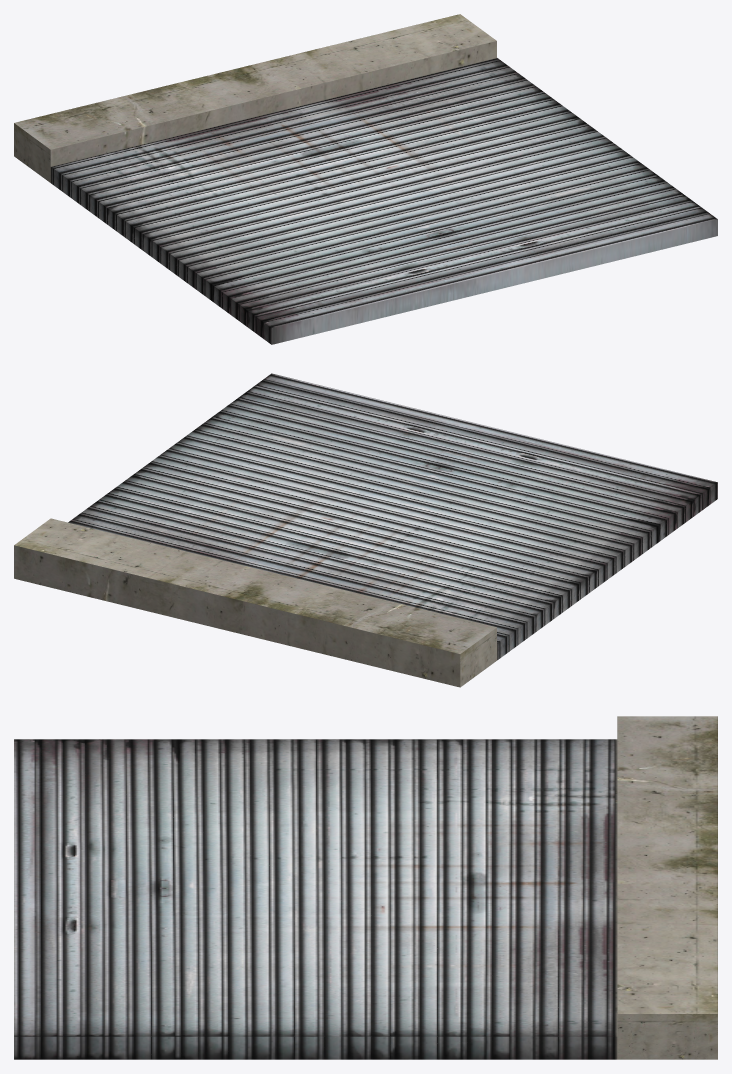
File: Door__Garage.FBX
The picture shows the model from 3 angles, top to bottom: view 1: azimuth 30°, elevation 25°; view 2: azimuth 150°, elevation 25°; view 3: azimuth 270°, elevation 25°; orthographic projection. The views are drawn at different scales.
Parts seen in each view (by area): view 1: Door_Garage; view 2: Door_Garage; view 3: Door_Garage.
Part boxes in pixels (bbox=[...]): Door_Garage: bbox=[14, 14, 717, 344]; Door_Garage: bbox=[14, 373, 717, 687]; Door_Garage: bbox=[14, 716, 717, 1059].
Bounding box in the file's own units: 448 × 32 × 448.
